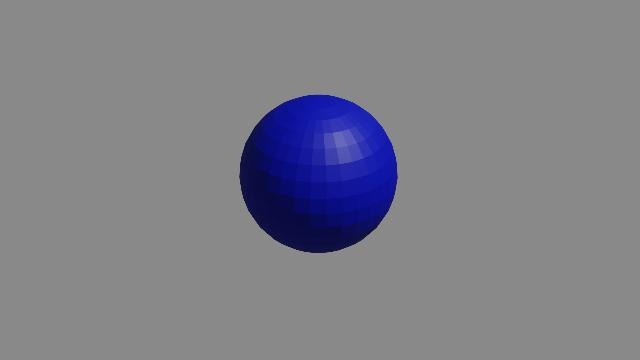Sphere: (231, 92, 405, 256)
